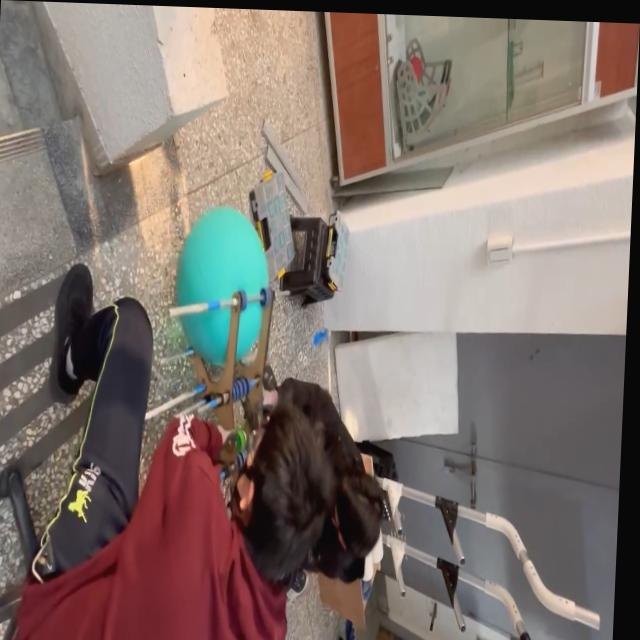ALGAE: (171, 201, 272, 369)
